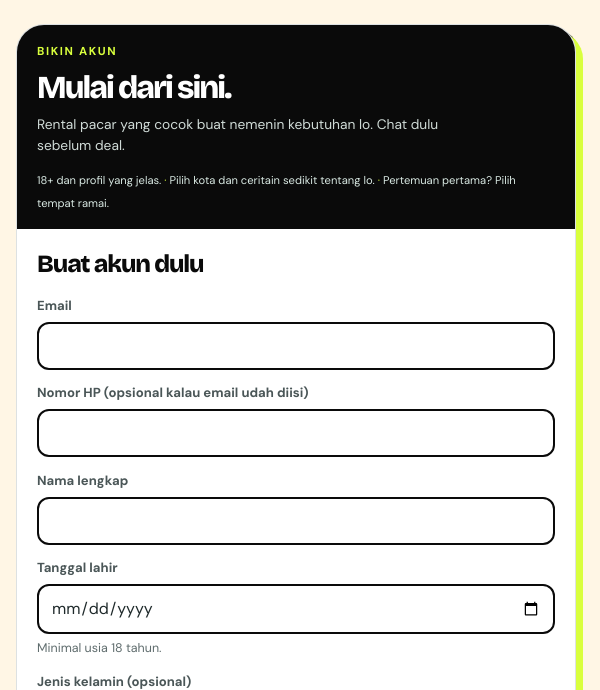
Scenario: RegisterPage validation › rejects a malformed email
In the field labelled "Email": (296, 346) left=37, top=322, right=555, bottom=370, type "not-an-email"
(page scrolled)
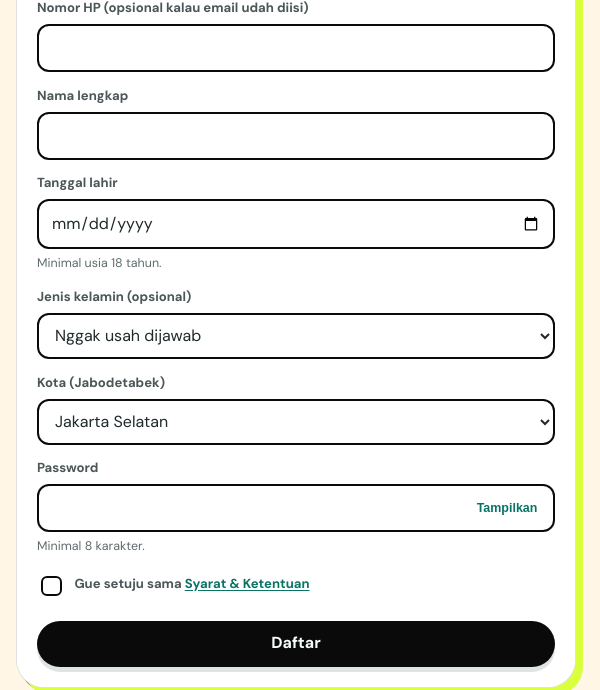
Click the button "Daftar": (296, 644) left=37, top=621, right=555, bottom=666
(page scrolled)
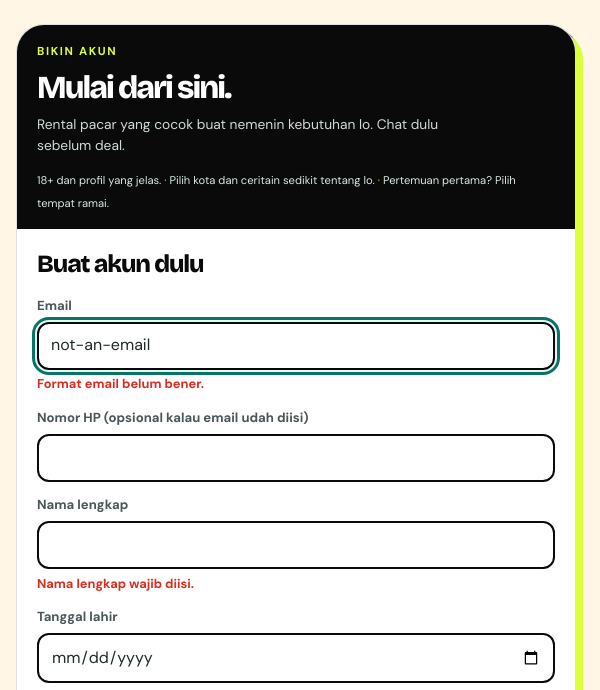
Check: the text "Format email belum bener." is shown, box left=37, top=375, right=204, bottom=392
